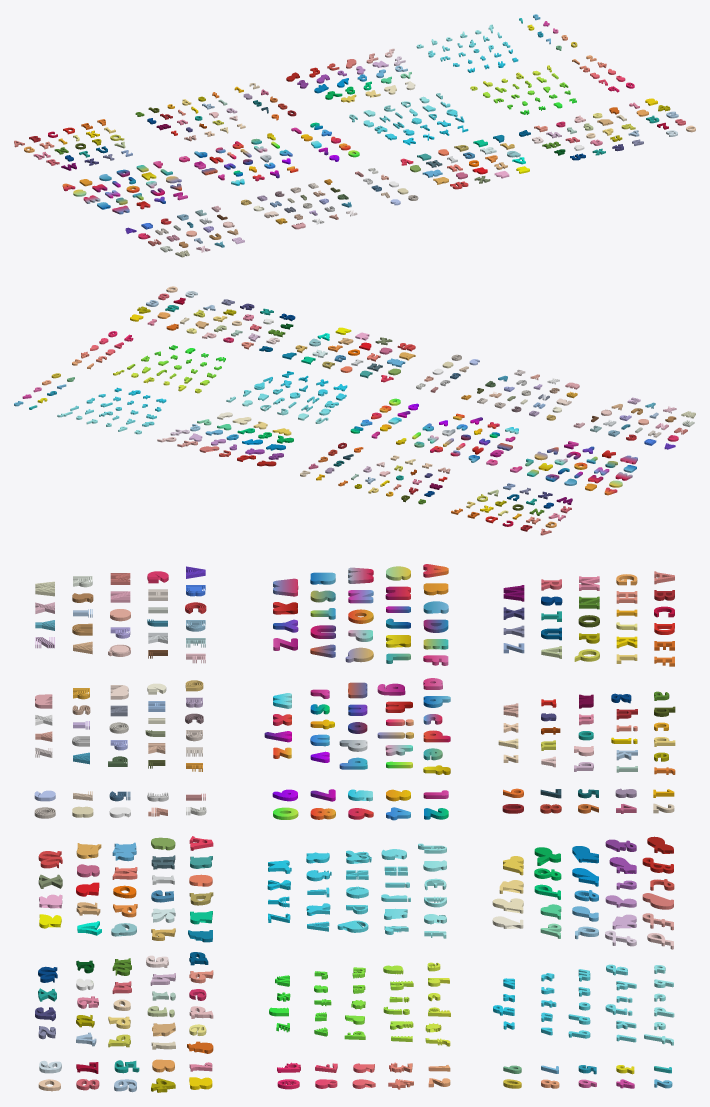
File: Alphabets & Numbers.fbx
3 renders of one model, top to bottom at view 1: azimuth 30°, elevation 25°; view 2: azimuth 150°, elevation 25°; view 3: azimuth 270°, elevation 25°, orthographic. The views are drawn at different scales.
Size of the model in its own units: 3302 by 10.09 by 1702.
